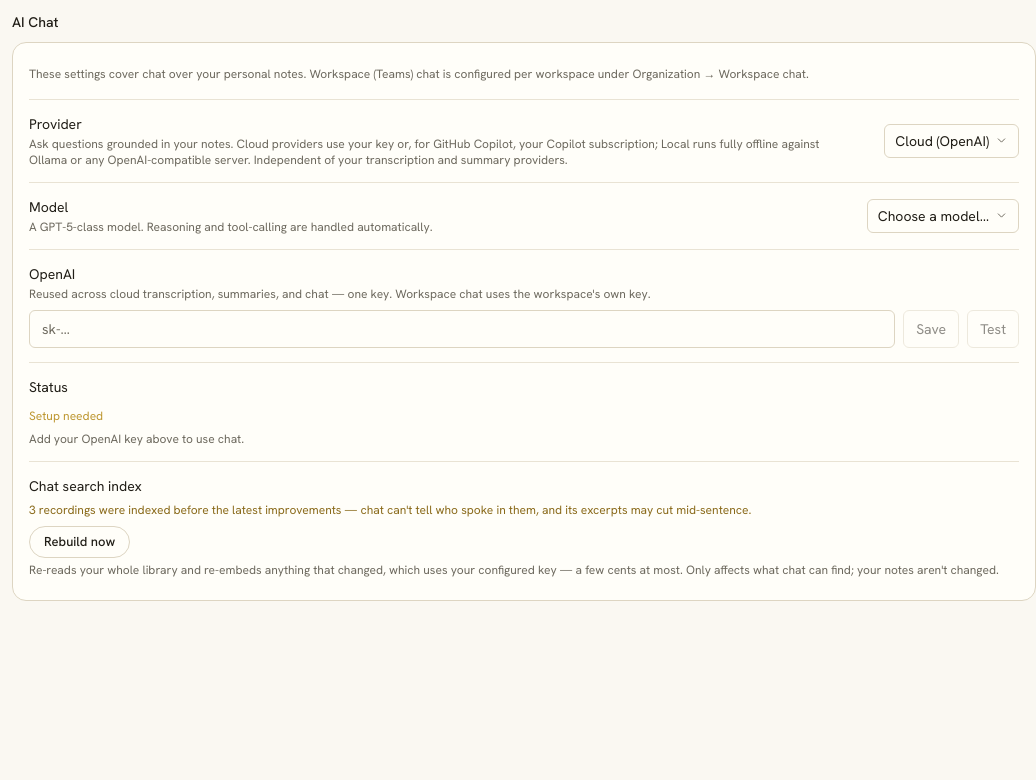
Test: ChatTab rebuild-index row › reports how many notes it rebuilt
Click the button "Rebuild now" at (80, 542), box top-left (29, 526), bottom-right (130, 558)
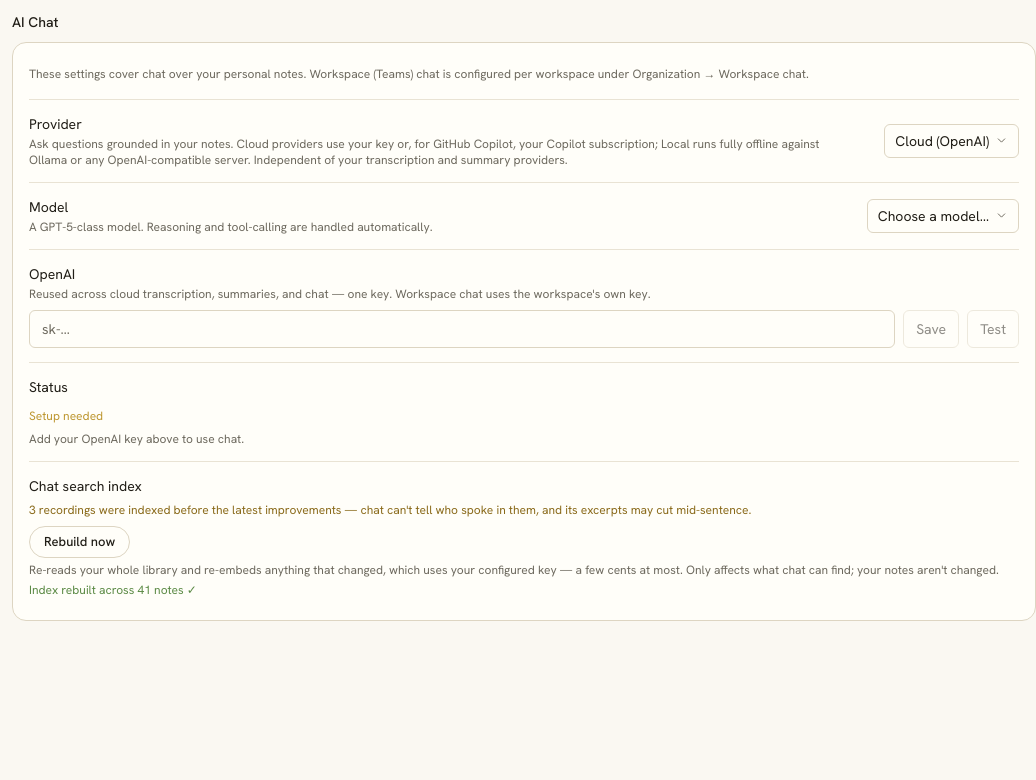
Expected: the text "Index rebuilt across 41 notes ✓" is shown, top-left (29, 582), bottom-right (197, 598)
